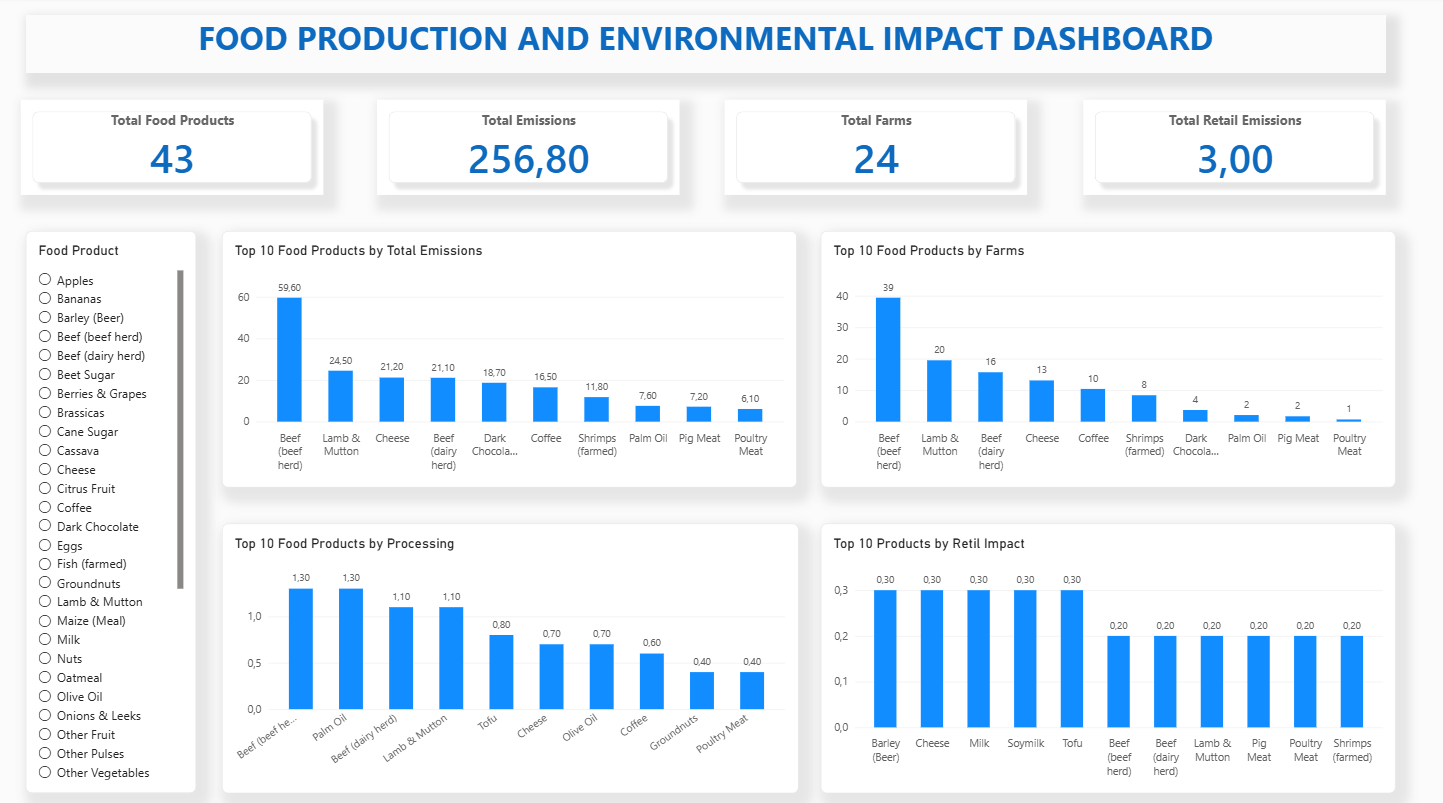

This screenshot's page, from the dashboard's own definition file:
{"tool":"powerbi","page":{"name":"Page 1","canvas":[1920,1080],"ordinal":0},"visuals":[{"type":"cardVisual","fields":{"Data":["Food_Production_Kaggle.Total Emissions Measure"]},"box":[501.4,136.9,399.1,125.4],"z":0},{"type":"cardVisual","fields":{"Data":["Food_Production_Kaggle.Total Food Products"]},"box":[31.3,136.9,399.1,125.4],"z":1},{"type":"cardVisual","fields":{"Data":["Food_Production_Kaggle.Total Farms"]},"box":[959.9,136.9,399.4,125.6],"z":2},{"type":"cardVisual","fields":{"Data":["Food_Production_Kaggle.Total Retail Emissions"]},"box":[1433.3,136.9,399.4,125.6],"z":3},{"type":"clusteredColumnChart","title":"Top 10 Food Products by Total Emissions","fields":{"Category":["Food_Production_Kaggle.Food Product"],"Y":["Sum(Food_Production_Kaggle.Total Emissions)"]},"box":[296.5,310.5,758.7,338.4],"z":4},{"type":"clusteredColumnChart","title":"Top 10 Food Products by Farms","fields":{"Category":["Food_Production_Kaggle.Food Product"],"Y":["Sum(Food_Production_Kaggle.Farm)"]},"box":[1086.6,310.5,758.7,338.4],"z":5},{"type":"clusteredColumnChart","title":"Top 10 Food Products by Processing","fields":{"Category":["Food_Production_Kaggle.Food Product"],"Y":["Sum(Food_Production_Kaggle.Processing)"]},"box":[296.5,695.9,760.5,355.8],"z":6},{"type":"clusteredColumnChart","title":"Top 10 Products by Retil Impact","fields":{"Category":["Food_Production_Kaggle.Food Product"],"Y":["Sum(Food_Production_Kaggle.Retail)"]},"box":[1086.6,695.9,758.7,355.8],"z":7},{"type":"textbox","box":[37.9,24.7,1794.8,76.7],"z":8},{"type":"listSlicer","fields":{"Values":["Food_Production_Kaggle.Food Product"]},"box":[38.4,310.5,225,741.3],"z":9}]}

Visuals, with their boxes in screenshot pixels (x1, y1, x2, y2), scaled from the page's 1920x1080 canvas onto the 1443x803 screenshot:
cardVisual - Food_Production_Kaggle.Total Emissions Measure: [left=377, top=102, right=677, bottom=195]
cardVisual - Food_Production_Kaggle.Total Food Products: [left=24, top=102, right=323, bottom=195]
cardVisual - Food_Production_Kaggle.Total Farms: [left=721, top=102, right=1022, bottom=195]
cardVisual - Food_Production_Kaggle.Total Retail Emissions: [left=1077, top=102, right=1377, bottom=195]
"Top 10 Food Products by Total Emissions" clusteredColumnChart: [left=223, top=231, right=793, bottom=482]
"Top 10 Food Products by Farms" clusteredColumnChart: [left=817, top=231, right=1387, bottom=482]
"Top 10 Food Products by Processing" clusteredColumnChart: [left=223, top=517, right=794, bottom=782]
"Top 10 Products by Retil Impact" clusteredColumnChart: [left=817, top=517, right=1387, bottom=782]
textbox: [left=28, top=18, right=1377, bottom=75]
listSlicer - Food_Production_Kaggle.Food Product: [left=29, top=231, right=198, bottom=782]
